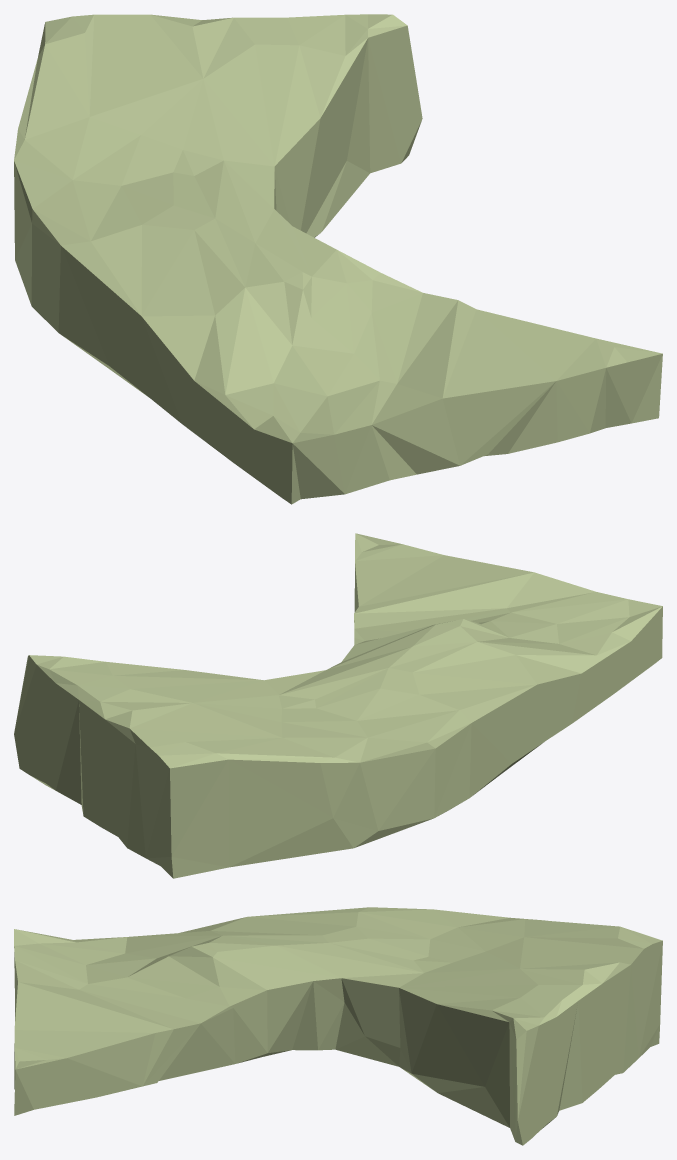
Rendered from ground_5.gltf.
The picture shows the model from 3 angles, top to bottom: view 1: azimuth 30°, elevation 25°; view 2: azimuth 150°, elevation 25°; view 3: azimuth 270°, elevation 25°; orthographic projection. The views are drawn at different scales.
Visible parts, largest first — view 1: o_ground_5; view 2: o_ground_5; view 3: o_ground_5.
Boxes of the visible parts, x1,y1,x2,y2 form: o_ground_5: (14, 14, 662, 504); o_ground_5: (14, 533, 662, 878); o_ground_5: (14, 907, 662, 1145).
Size of the model in its own units: 18.08 by 5.5 by 28.88.
